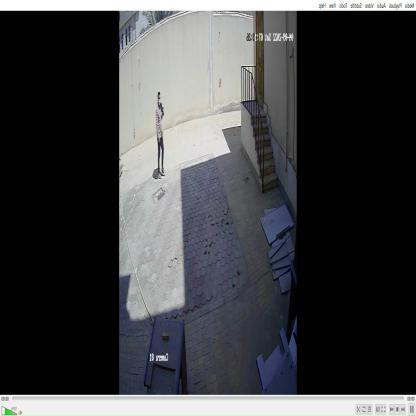handgun: (156, 94, 166, 118)
